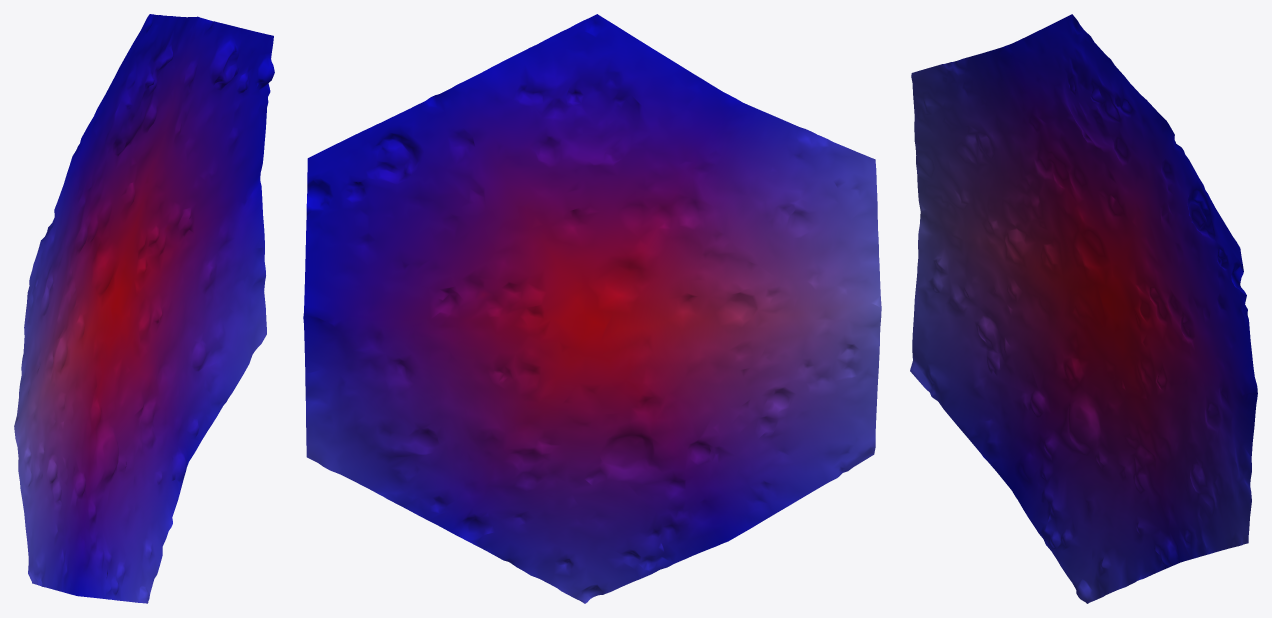
Rendered from Hex_22.fbx.
3 renders of one model, left to right at view 1: azimuth 30°, elevation 25°; view 2: azimuth 150°, elevation 25°; view 3: azimuth 270°, elevation 25°, orthographic.
Visible parts, largest first — view 1: Hex_22; view 2: Hex_22; view 3: Hex_22.
Part boxes in pixels (x1,y1,x2,y2): Hex_22: [14, 14, 274, 603]; Hex_22: [303, 14, 881, 603]; Hex_22: [910, 14, 1257, 603].
Size of the model in its own units: 378 by 509 by 273.
